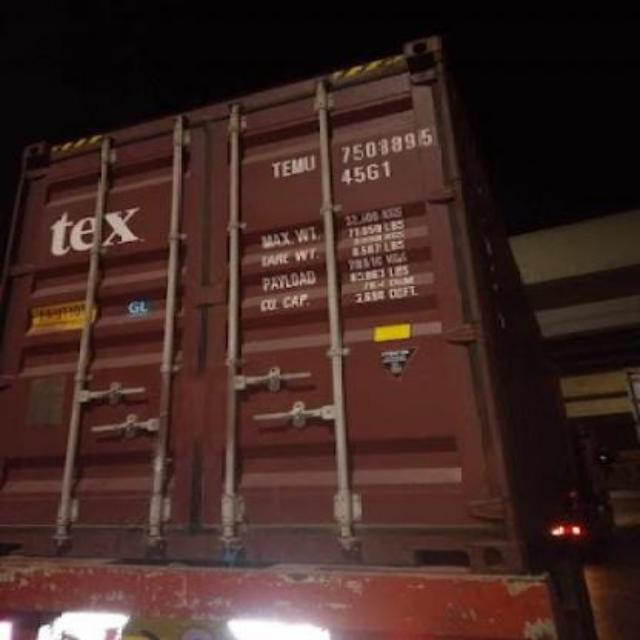0: (364, 138, 376, 158)
5: (418, 126, 439, 150), (351, 140, 364, 164)
7: (332, 139, 350, 165)
8: (378, 130, 390, 160), (390, 132, 402, 154)
9: (402, 128, 416, 154)
E: (278, 156, 290, 174)
M: (288, 151, 304, 177)
T: (268, 156, 280, 177)
U: (302, 152, 318, 174)
